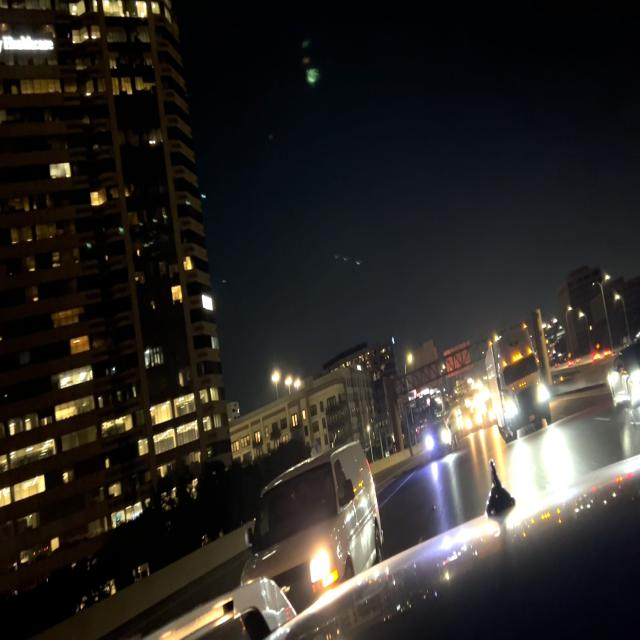back-of-sign: (405, 338, 441, 395), (445, 336, 476, 382)
